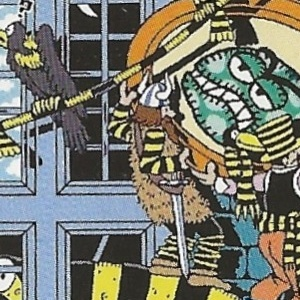Charlie: (144, 124, 156, 176)
